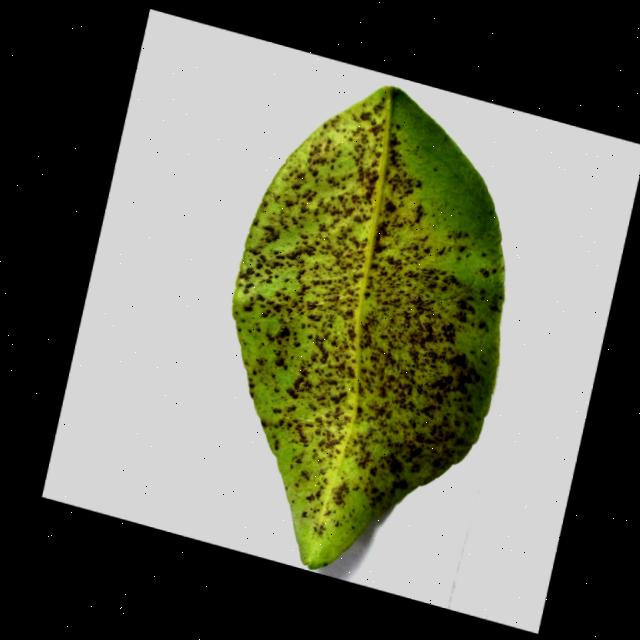melanose: (232, 85, 505, 568)
